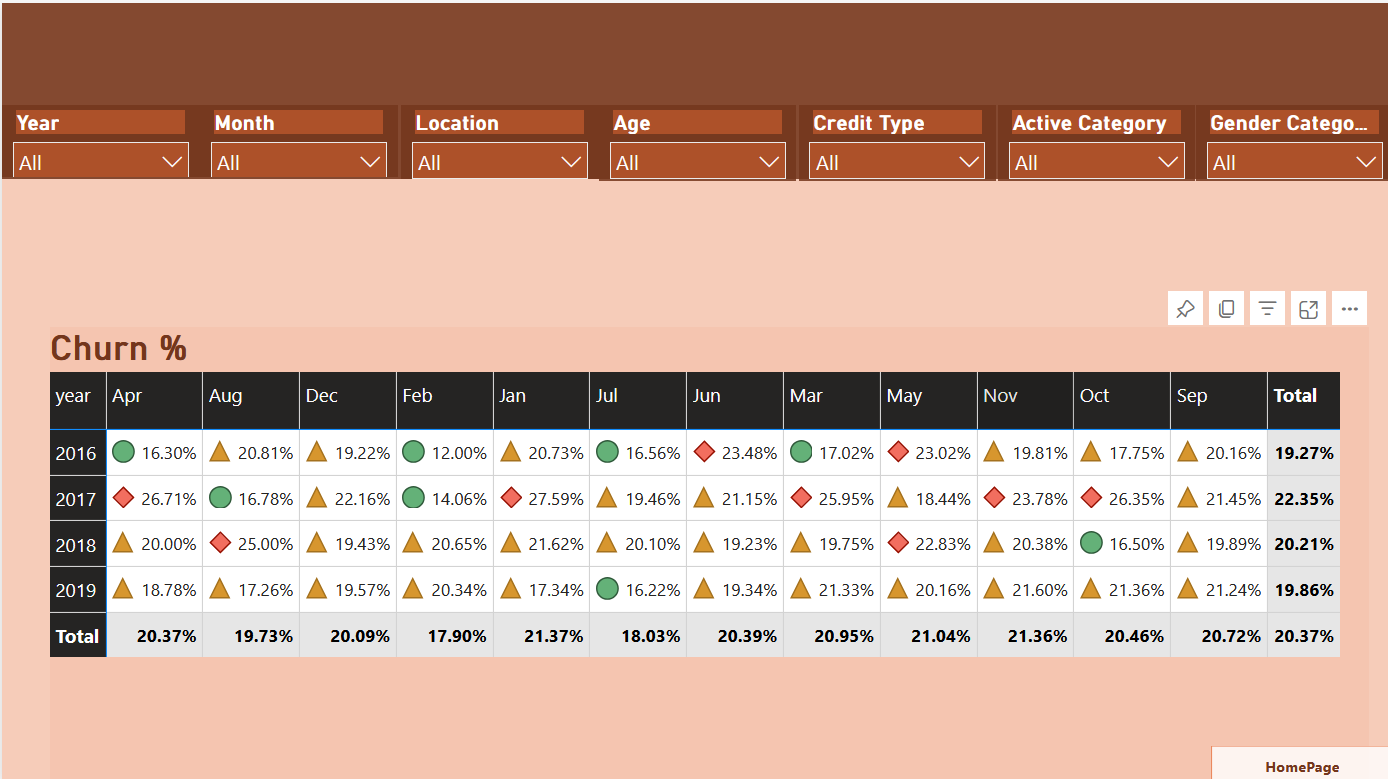

Layout of this report page (visuals, bound fields, positions):
{"tool":"powerbi","page":{"name":"Churn%","canvas":[1280,720],"ordinal":2},"visuals":[{"type":"pivotTable","title":"Churn %","fields":{"Rows":["DateMaster.year"],"Columns":["DateMaster.month name"],"Values":["Calculations.churn %"]},"box":[43.9,298.3,1212.9,420.9],"z":0},{"type":"shape","box":[0,0,1279.5,162],"z":1000},{"type":"slicer","fields":{"Values":["Geography.GeographyLocation"]},"box":[366.4,93.9,181.7,68.1],"z":2000},{"type":"slicer","fields":{"Values":["DateMaster.year"]},"box":[0,93.9,181.7,66.6],"z":3000},{"type":"slicer","fields":{"Values":["DateMaster.month name"]},"box":[181.7,93.9,181.7,66.6],"z":4000},{"type":"slicer","fields":{"Values":["ActiveCustomer.ActiveCategory"]},"box":[915.8,93.2,181.6,69.5],"z":5000},{"type":"slicer","fields":{"Values":["Bank_Churn.credit type"]},"box":[732.6,93.2,181.6,69.5],"z":6000},{"type":"slicer","fields":{"Values":["ExitCustomer.ExitCategory"]},"box":[549.5,93.2,181.6,69.5],"z":7000},{"type":"slicer","fields":{"Values":["Gender.GenderCategory"]},"box":[1098.4,93.2,181.6,69.5],"z":8000},{"type":"pageNavigator","box":[1111.4,682.9,168.1,36.3],"z":9000}]}

Visuals, with their boxes in screenshot pixels (x1, y1, x2, y2), scaled from the page's 1280x720 canvas onto the 1388x779 screenshot:
"Churn %" pivotTable: [left=48, top=323, right=1363, bottom=778]
shape: [left=0, top=0, right=1387, bottom=175]
slicer - Geography.GeographyLocation: [left=397, top=102, right=594, bottom=175]
slicer - DateMaster.year: [left=0, top=102, right=197, bottom=174]
slicer - DateMaster.month name: [left=197, top=102, right=394, bottom=174]
slicer - ActiveCustomer.ActiveCategory: [left=993, top=101, right=1190, bottom=176]
slicer - Bank_Churn.credit type: [left=794, top=101, right=991, bottom=176]
slicer - ExitCustomer.ExitCategory: [left=596, top=101, right=793, bottom=176]
slicer - Gender.GenderCategory: [left=1191, top=101, right=1387, bottom=176]
pageNavigator: [left=1205, top=739, right=1387, bottom=778]
